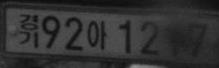1: (115, 18, 137, 54), (161, 21, 183, 57)
2: (139, 19, 161, 55), (64, 15, 83, 52)
7: (186, 21, 209, 58)
9: (40, 14, 61, 49)
경기_V: (17, 13, 39, 48)
아: (85, 19, 108, 49)
